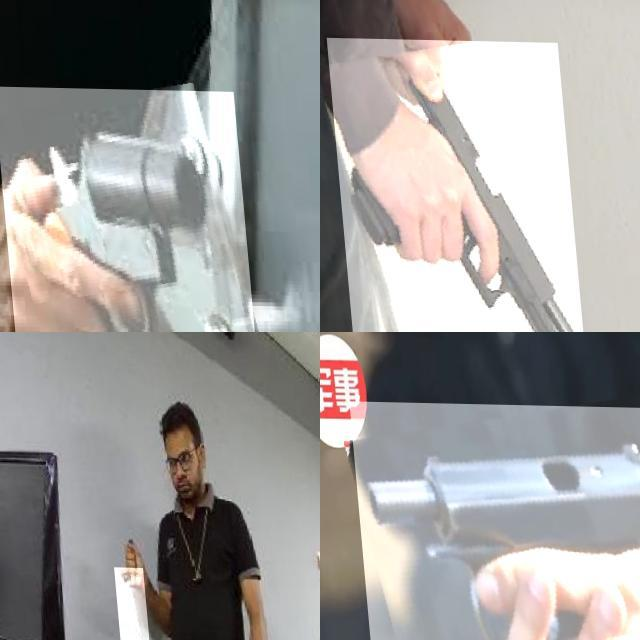-: (106, 566, 141, 640)
gun-knife-thesis - v11 Yolov5 augmented: (323, 37, 579, 332), (347, 400, 640, 640), (0, 85, 249, 332)
